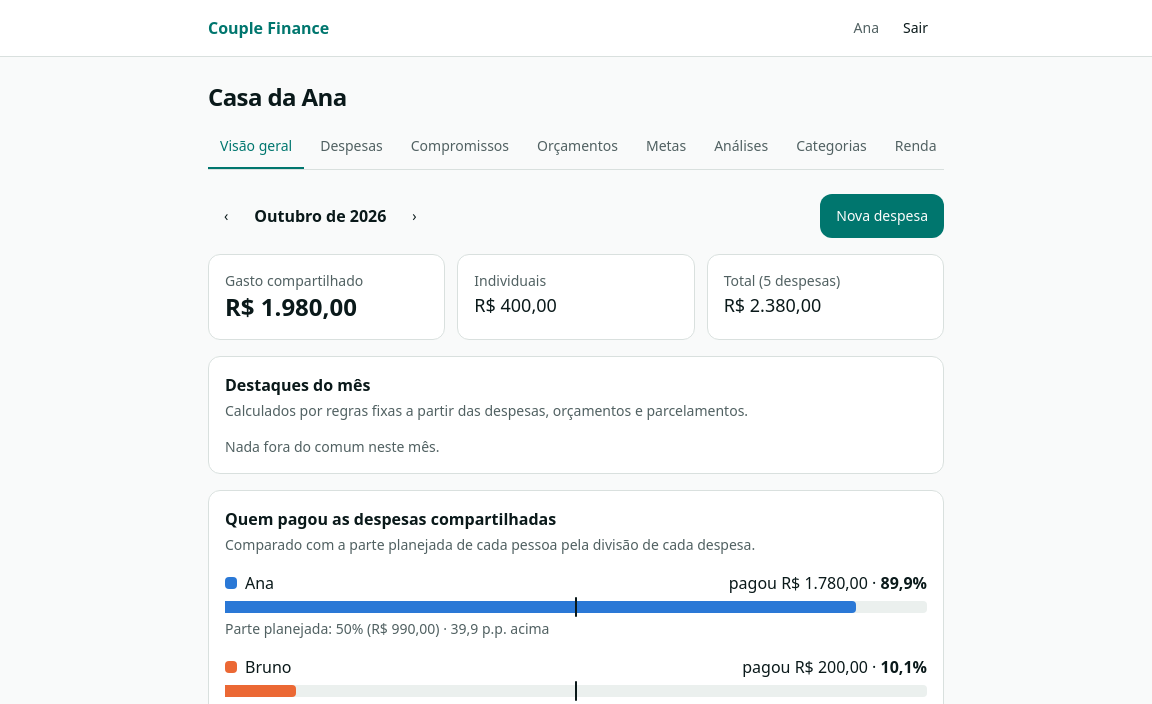
Test case: dashboard › navigates to another month
The width and height of the screenshot is (1152, 704).
Click the button named "Mês anterior".
click(226, 216)  # box [208,194,244,238]
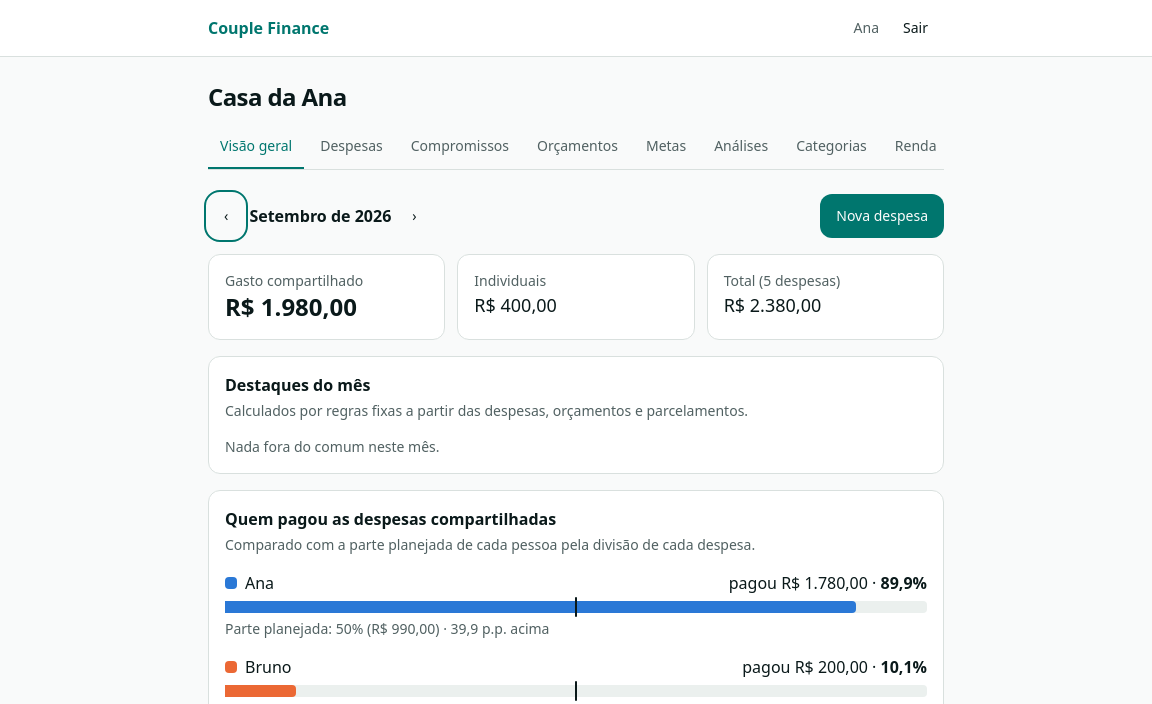
Expected: the heading "Setembro de 2026" is shown, [248,204,392,228]
